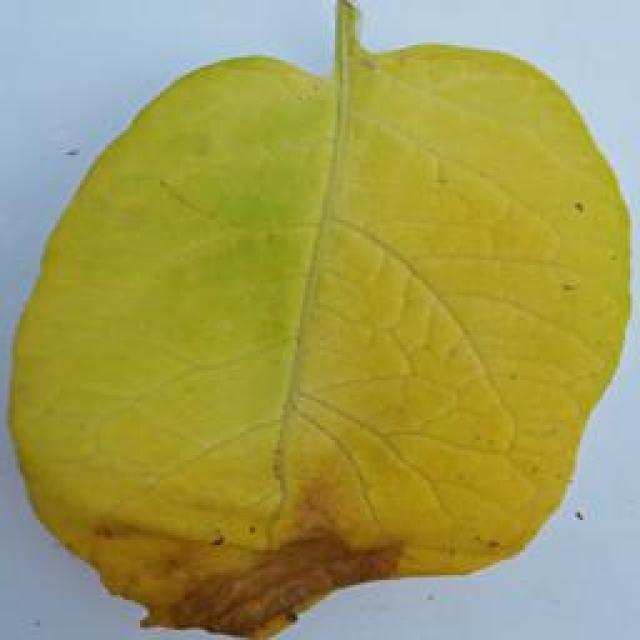Potato_Late_Blight: (13, 6, 621, 635)
